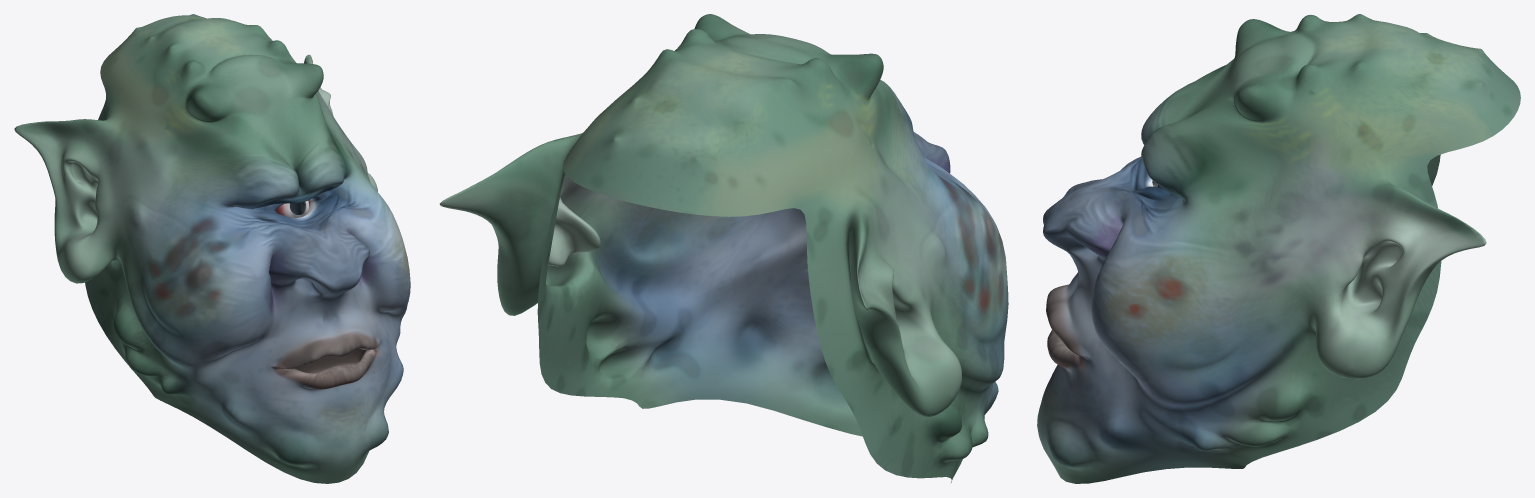
File: bs_angry.obj
The picture shows the model from 3 angles, left to right: view 1: azimuth 30°, elevation 25°; view 2: azimuth 150°, elevation 25°; view 3: azimuth 270°, elevation 25°; orthographic projection. The views are drawn at different scales.
Parts seen in each view (by area): view 1: ogre_00; view 2: ogre_00; view 3: ogre_00.
Part boxes in pixels (left/top/right/bottom): ogre_00: left=14, top=14, right=410, bottom=483; ogre_00: left=439, top=14, right=1008, bottom=482; ogre_00: left=1037, top=14, right=1520, bottom=483.
Size of the model in its own units: 1.06 by 1.17 by 1.18.
1 material, 1 textured.
